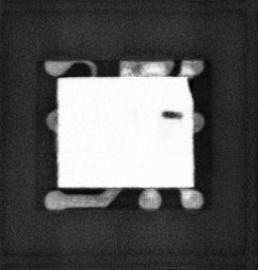DIE_BROKEN: (186, 74, 197, 99)
